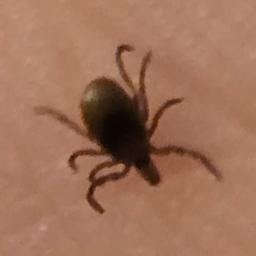Ixodes scapularis: (34, 43, 226, 215)
